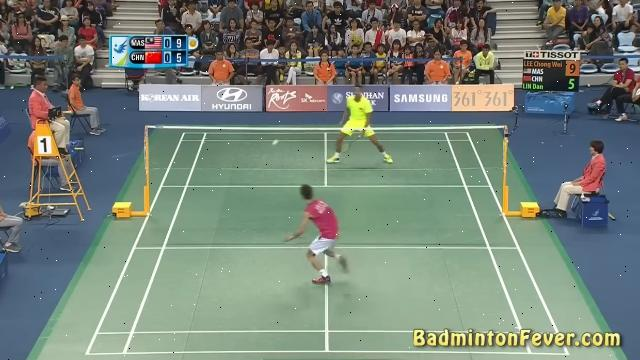Shuttlecock: (270, 138, 282, 146)
